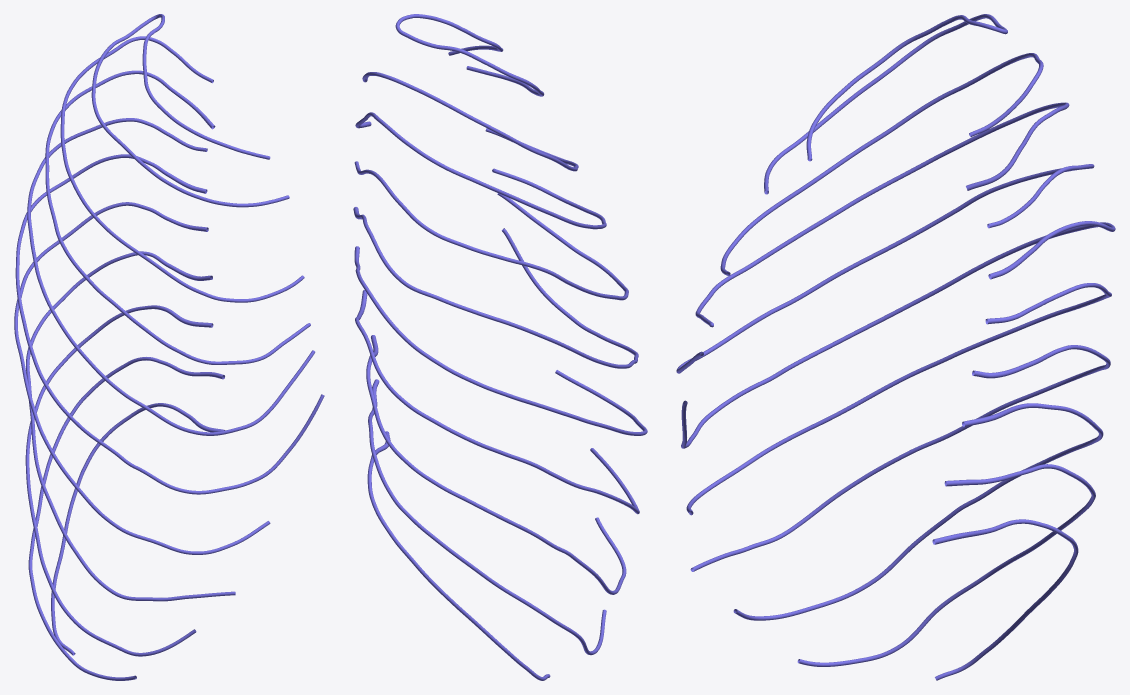
The model's file is Intercostal_veins.r_BezierCurve.303.glb.
3 views of the same model, side by side, from view 1: azimuth 30°, elevation 25°; view 2: azimuth 150°, elevation 25°; view 3: azimuth 270°, elevation 25° (orthographic). The views are drawn at different scales.
Parts seen in each view (by area): view 1: Intercostal_veins.r_BezierCurve.303; view 2: Intercostal_veins.r_BezierCurve.303; view 3: Intercostal_veins.r_BezierCurve.303.
Part boxes in pixels (box(x1,y1,x2,y2)): Intercostal_veins.r_BezierCurve.303: box(14, 14, 324, 680); Intercostal_veins.r_BezierCurve.303: box(353, 14, 647, 680); Intercostal_veins.r_BezierCurve.303: box(676, 14, 1115, 680).
Size of the model in its own units: 0.1238 by 0.3566 by 0.1966.
